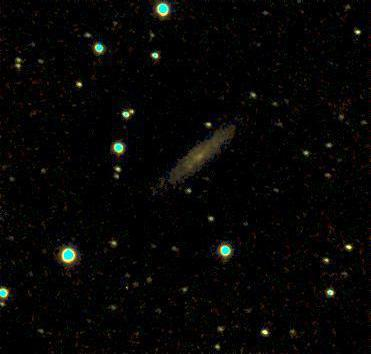star: (176, 152, 206, 182)
